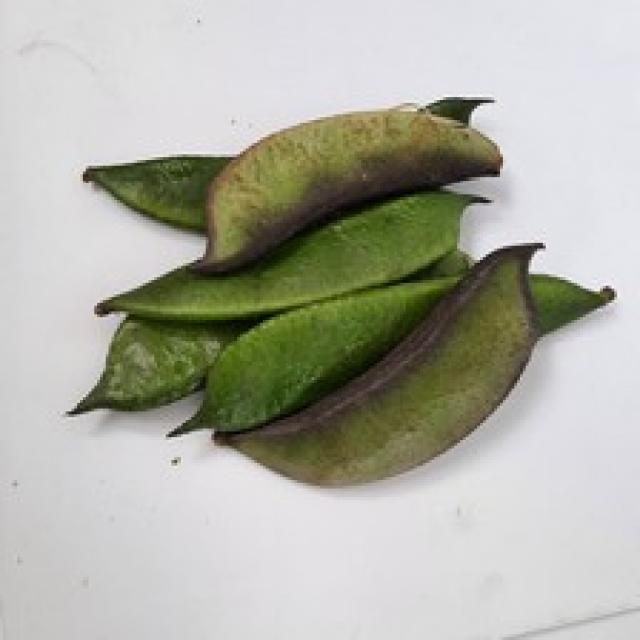Bean: (212, 240, 614, 486), (183, 92, 503, 274), (165, 249, 468, 437), (91, 186, 486, 323)
